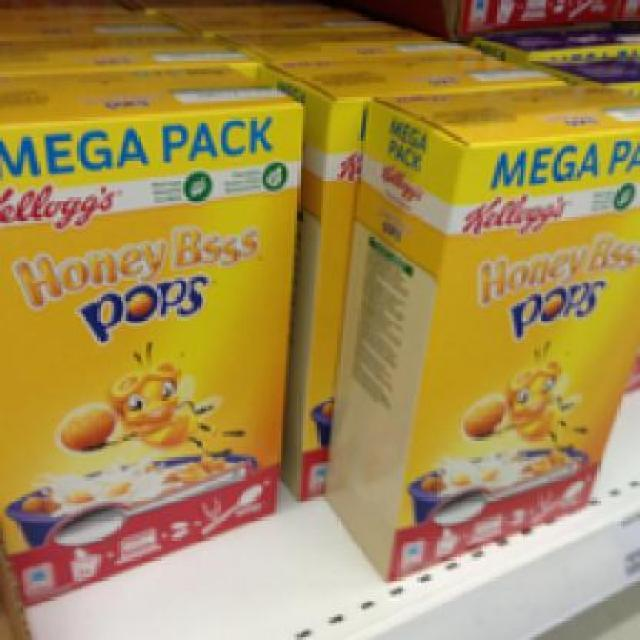Cereal: (323, 80, 637, 583), (0, 63, 303, 563)
